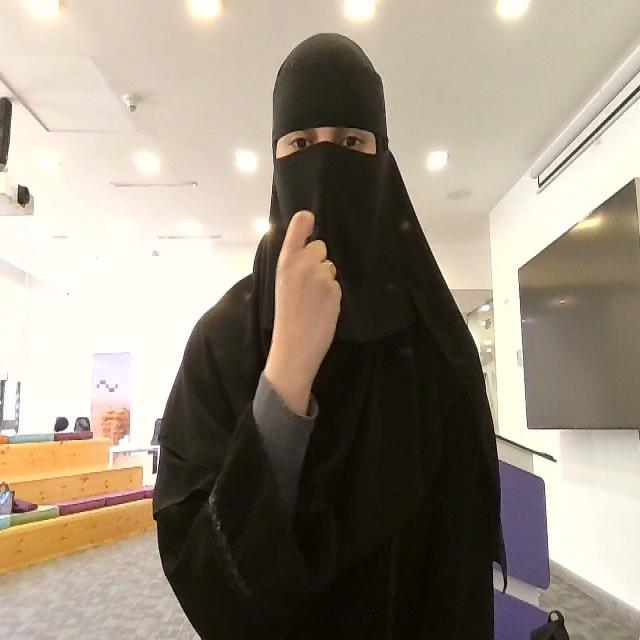medicine: (263, 208, 342, 415)
